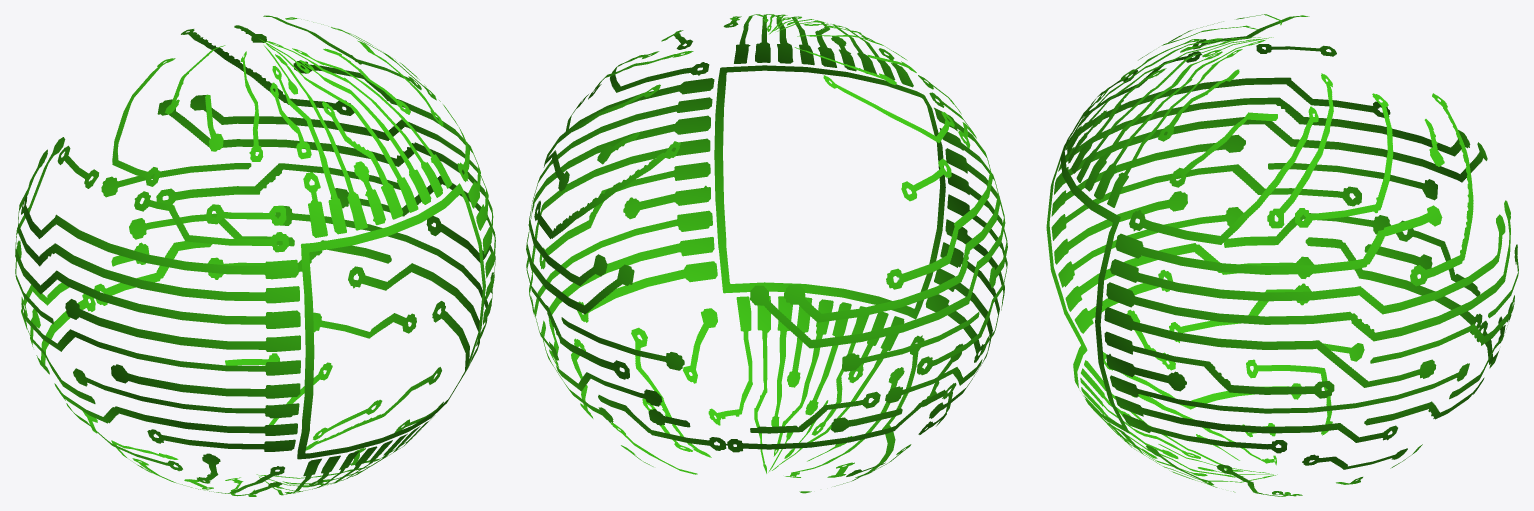
The model's file is testsfera.gltf.
3 renders of one model, left to right at view 1: azimuth 30°, elevation 25°; view 2: azimuth 150°, elevation 25°; view 3: azimuth 270°, elevation 25°, orthographic.
Parts seen in each view (by area): view 1: Sfera; view 2: Sfera; view 3: Sfera.
Part boxes in pixels (bbox=[...]): Sfera: bbox=[15, 15, 495, 496]; Sfera: bbox=[526, 14, 1007, 493]; Sfera: bbox=[1046, 14, 1518, 496].
Bounding box in the file's own units: 14.9 × 14.92 × 14.9.
1 material, 1 textured.
